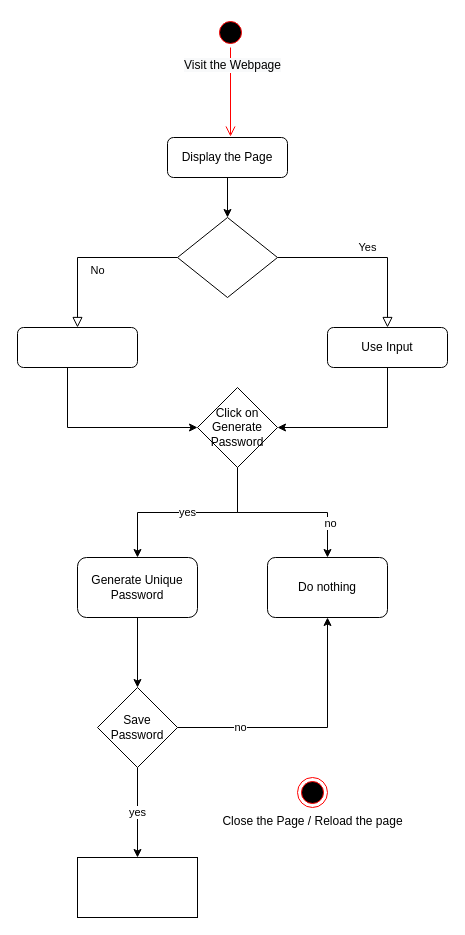
Image size: 465x935. Some labels were removed from this diagram. The box of each missing label's shape, as (x1, y1, x2, y2) in pixels:
Download Password: (76, 856, 198, 918)
Input was Provided: (176, 216, 278, 298)
Use Defaults: (16, 326, 138, 368)
